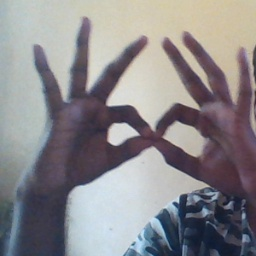B: (92, 79, 217, 170)
